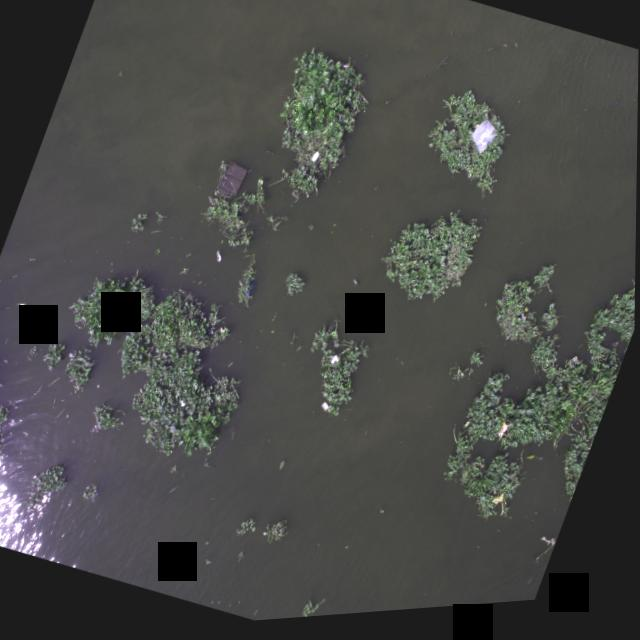plastic: (211, 158, 249, 206), (467, 114, 503, 162), (489, 420, 515, 455), (236, 277, 261, 306), (318, 398, 335, 421), (307, 149, 324, 171), (210, 248, 228, 267), (330, 354, 344, 373), (608, 104, 622, 122), (608, 346, 623, 360), (350, 278, 363, 293), (126, 320, 135, 331), (262, 531, 270, 542), (588, 362, 595, 373)
